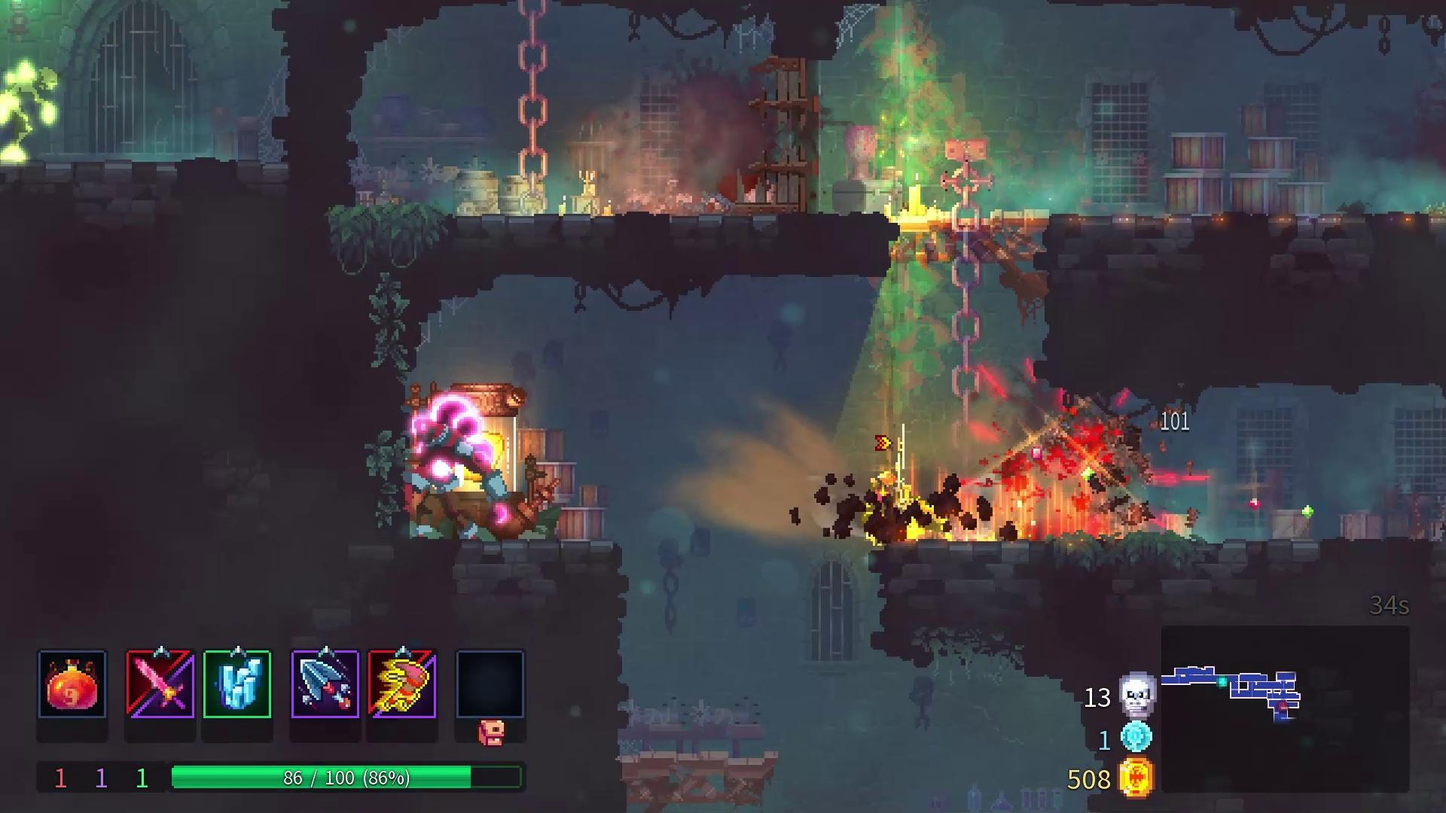green1: (0, 60, 59, 168)
